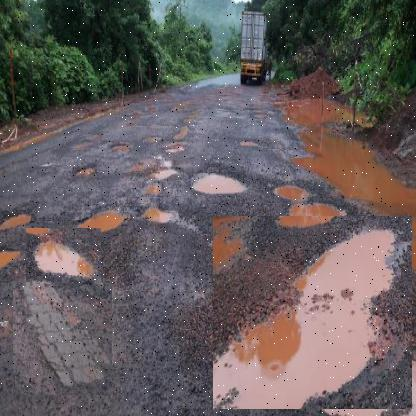crack: (12, 286, 112, 396)
pothole_water: (25, 228, 101, 296), (180, 154, 254, 212), (67, 190, 128, 245)
pothole_water_m: (212, 216, 412, 410)
